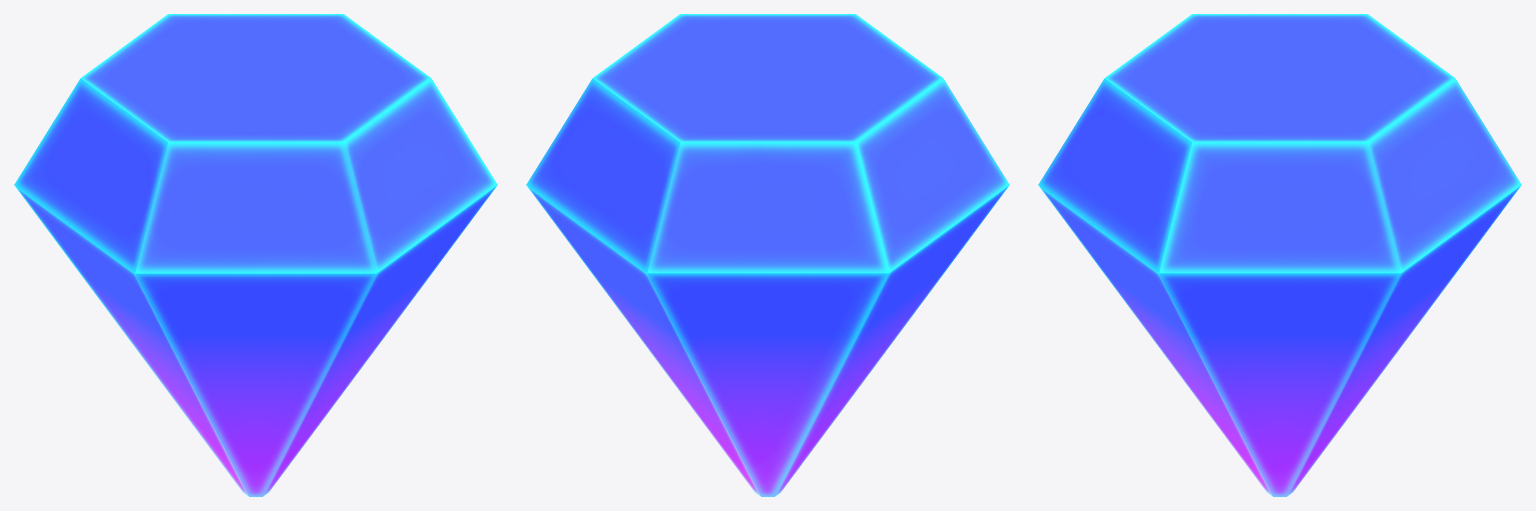
Rendered from diamante.glb.
3 renders of one model, left to right at view 1: azimuth 30°, elevation 25°; view 2: azimuth 150°, elevation 25°; view 3: azimuth 270°, elevation 25°, orthographic.
Parts seen in each view (by area): view 1: Stone4; view 2: Stone4; view 3: Stone4.
Part boxes in pixels (x1,y1,x2,y2): Stone4: (14,14,497,496); Stone4: (526,14,1009,496); Stone4: (1038,14,1521,496).
Bounding box in the file's own units: 1.1 × 1.2 × 1.27.
Materials: 1 (1 with a texture image).
